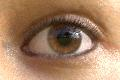eye: (49, 24, 81, 54)
